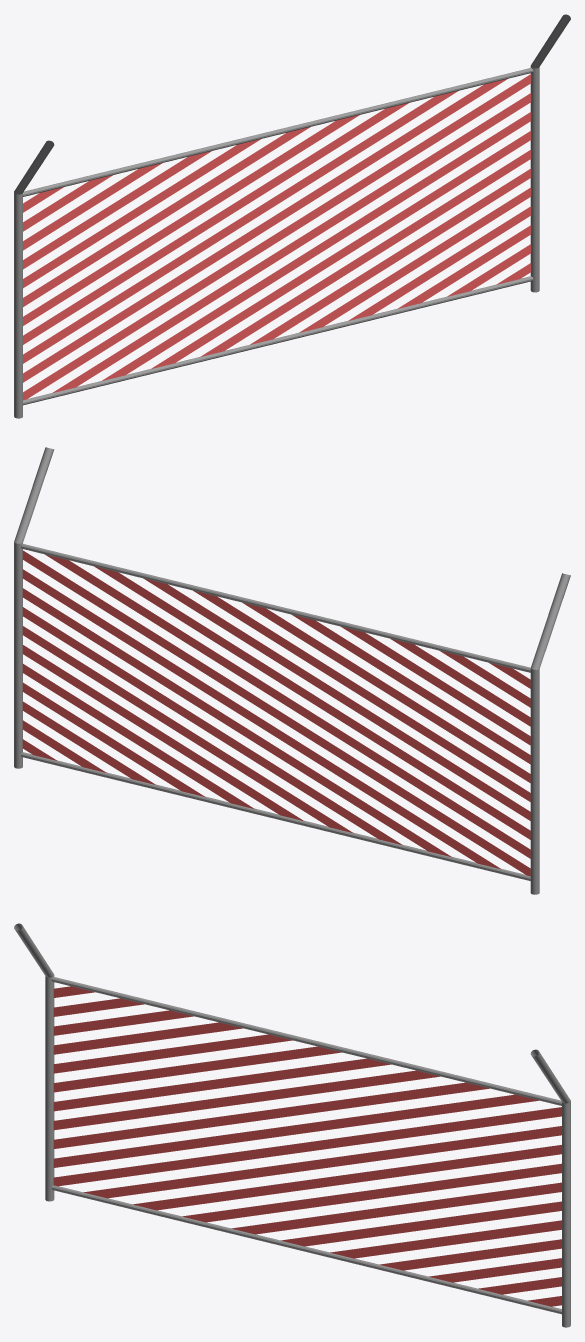
File: fence.fbx
3 views of the same model, one above another, from view 1: azimuth 30°, elevation 25°; view 2: azimuth 150°, elevation 25°; view 3: azimuth 330°, elevation 25° (orthographic).
Parts seen in each view (by area): view 1: pCylinder5; view 2: pCylinder5; view 3: pCylinder5.
Part boxes in pixels (left/top/right/bottom): pCylinder5: left=14, top=14, right=570, bottom=418; pCylinder5: left=14, top=447, right=570, bottom=894; pCylinder5: left=14, top=923, right=570, bottom=1327.
Size of the model in its own units: 722 by 391 by 84.54.
